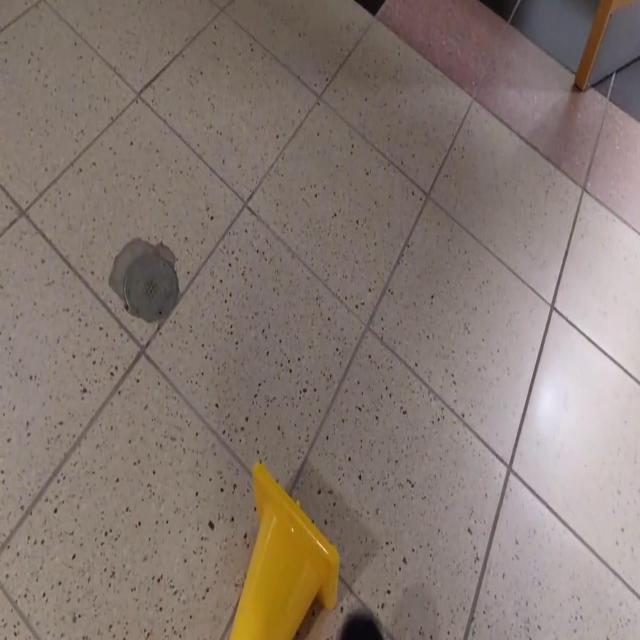frc_cone: (224, 459, 341, 640)
